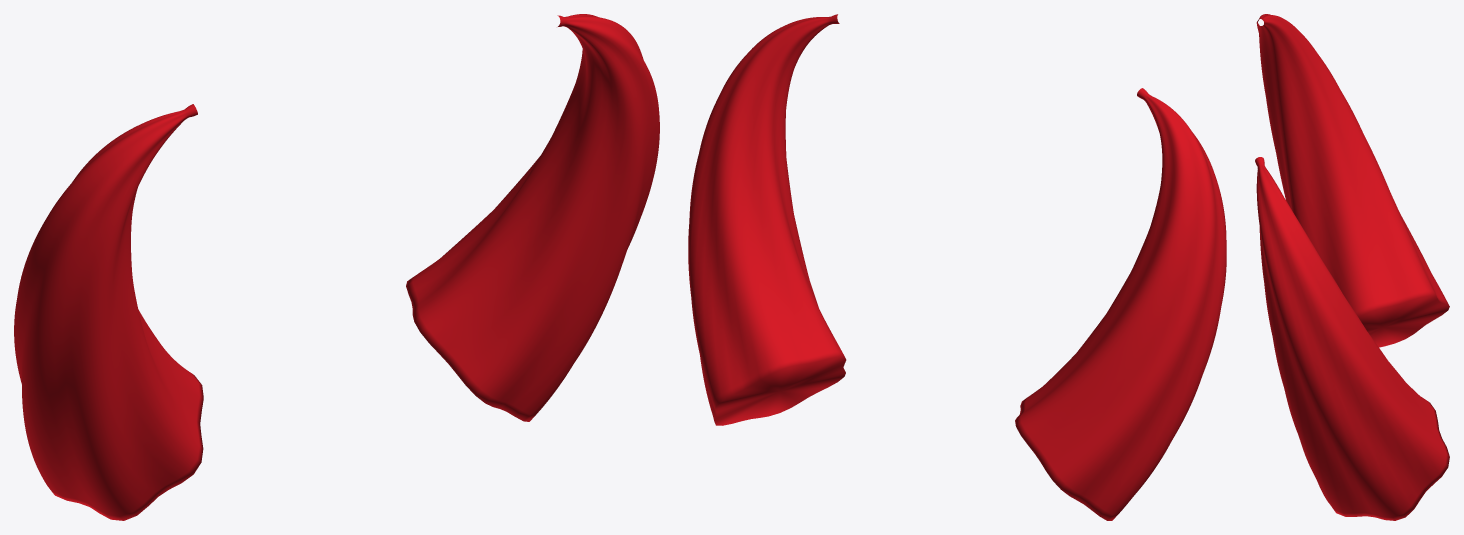
File: devil-horns.glb
3 views of the same model, side by side, from view 1: azimuth 30°, elevation 25°; view 2: azimuth 150°, elevation 25°; view 3: azimuth 270°, elevation 25° (orthographic). The views are drawn at different scales.
Visible parts, largest first — view 1: HornR, HornL; view 2: HornL, HornR; view 3: HornR, HornL.
Part boxes in pixels (x1,y1,x2,y2): HornR: (406, 14, 659, 421); HornL: (14, 104, 203, 520); HornL: (1015, 88, 1226, 520); HornR: (688, 14, 846, 425); HornR: (1255, 157, 1449, 520); HornL: (1256, 14, 1449, 347).
Size of the model in its own units: 0.7176 by 0.4993 by 0.2524.
